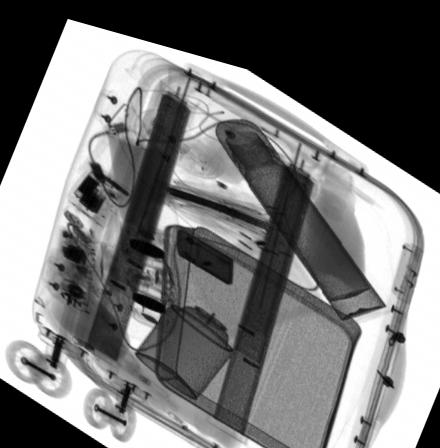Lighter: (177, 219, 231, 272)
Sprayer: (133, 275, 250, 387)
